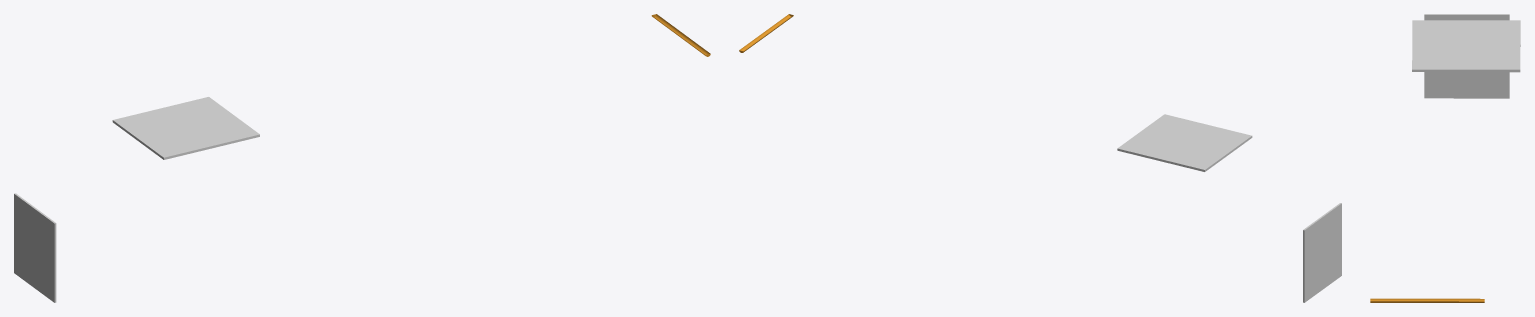
File: Barrier Grotto Main.fbx
3 renders of one model, left to right at view 1: azimuth 30°, elevation 25°; view 2: azimuth 150°, elevation 25°; view 3: azimuth 270°, elevation 25°, orthographic. The views are drawn at different scales.
Visible parts, largest first — view 1: corralBarrier (1), corralBarrier (2); view 2: corralBarrier (1), corralBarrier (2); view 3: corralBarrier (1), corralBarrier (2), corralRunner (1).
Part boxes in pixels (box(x1,y1,x2,y2)): corralBarrier (1): box(112, 97, 259, 159); corralBarrier (2): box(14, 193, 56, 302); corralBarrier (1): box(1117, 114, 1252, 171); corralBarrier (2): box(1303, 203, 1341, 302); corralBarrier (1): box(1412, 20, 1520, 72); corralBarrier (2): box(1424, 14, 1509, 98); corralRunner (1): box(1370, 298, 1484, 302).
Bounding box in the file's own units: 107 × 20.19 × 21.09.
